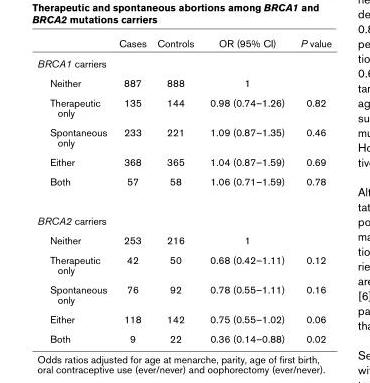table: (36, 36, 331, 344)
table column: (201, 36, 291, 344), (36, 36, 112, 344), (151, 36, 201, 344), (291, 36, 331, 344), (112, 36, 151, 344)
table column header: (36, 36, 331, 52)
table projected row header: (36, 200, 331, 230), (36, 52, 331, 72)
table row: (36, 92, 331, 122), (36, 200, 331, 230), (36, 249, 331, 279), (36, 122, 331, 151), (36, 171, 331, 200), (36, 279, 331, 308), (36, 52, 331, 72), (36, 72, 331, 92), (36, 151, 331, 171), (36, 308, 331, 328), (36, 230, 331, 249), (36, 36, 331, 52), (36, 328, 331, 344)
